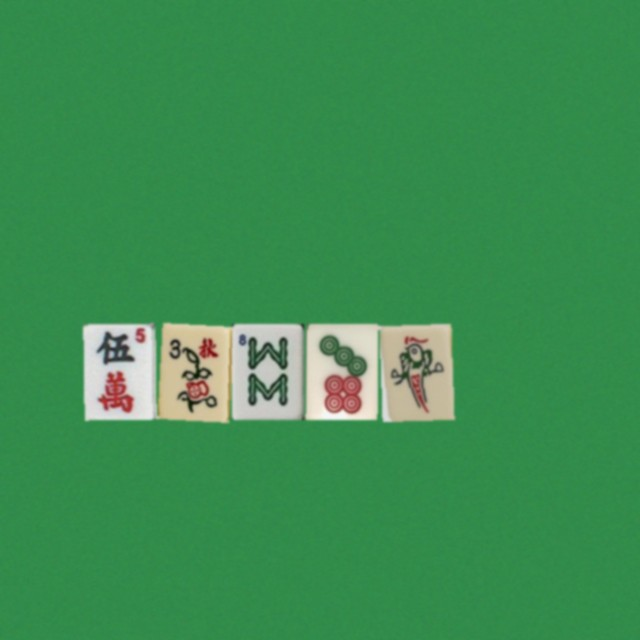tile: (83, 323, 155, 419), (157, 323, 229, 419), (231, 323, 303, 419), (305, 323, 377, 419), (379, 323, 451, 419)
